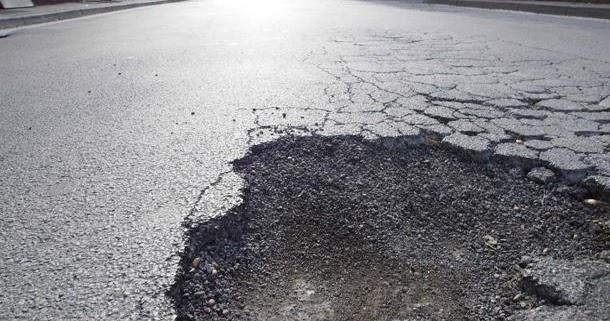Pothole: (71, 83, 610, 321)
